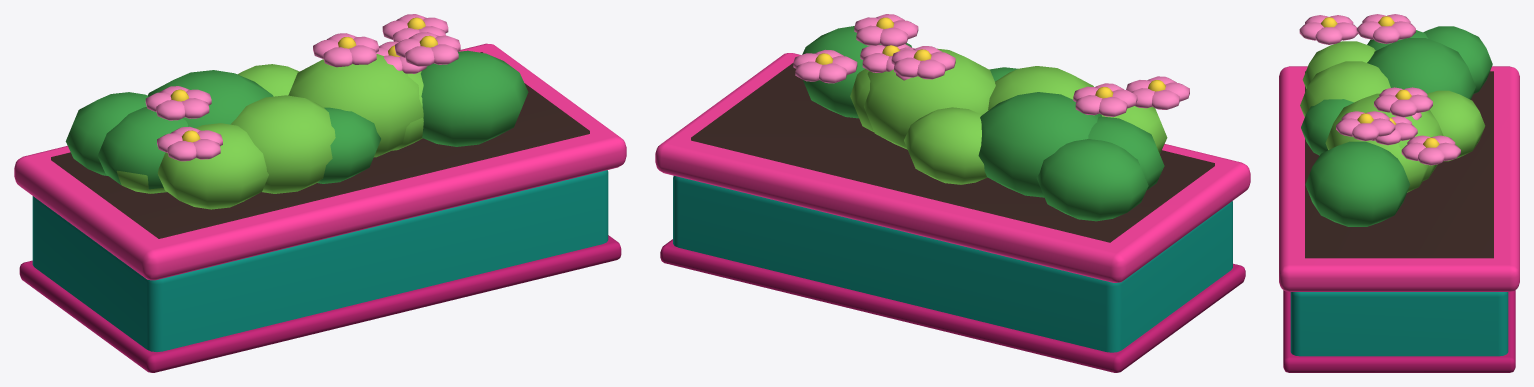
Rendered from planter.glb.
3 renders of one model, left to right at view 1: azimuth 30°, elevation 25°; view 2: azimuth 150°, elevation 25°; view 3: azimuth 270°, elevation 25°, orthographic. The views are drawn at different scales.
Visible parts, largest first — view 1: Planter; view 2: Planter; view 3: Planter.
Part boxes in pixels (x1,y1,x2,y2): Planter: [14, 14, 626, 372]; Planter: [655, 14, 1250, 372]; Planter: [1279, 14, 1519, 372].
Bounding box in the file's own units: 3.36 × 1.51 × 1.66.
